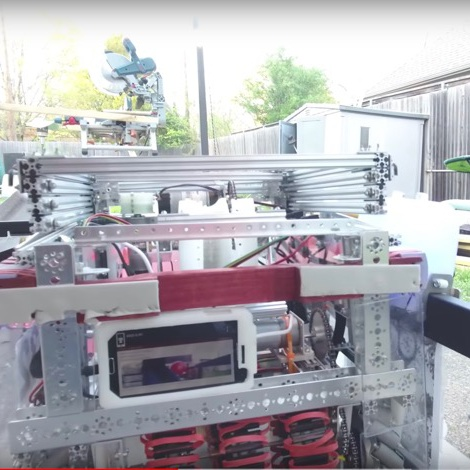robot: (0, 143, 470, 469)
